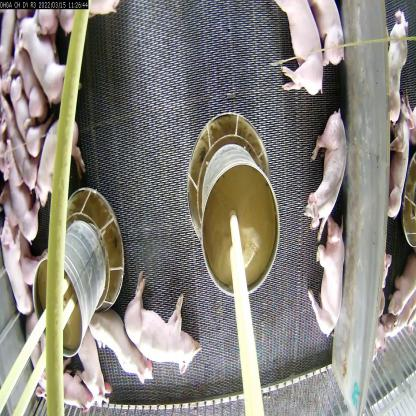Pig: (130, 275, 202, 379), (82, 304, 154, 392), (266, 0, 325, 104), (0, 141, 49, 256), (302, 113, 348, 235), (30, 101, 83, 203), (10, 19, 72, 104), (307, 217, 342, 338), (65, 336, 113, 414), (0, 207, 34, 317), (8, 82, 36, 153)
